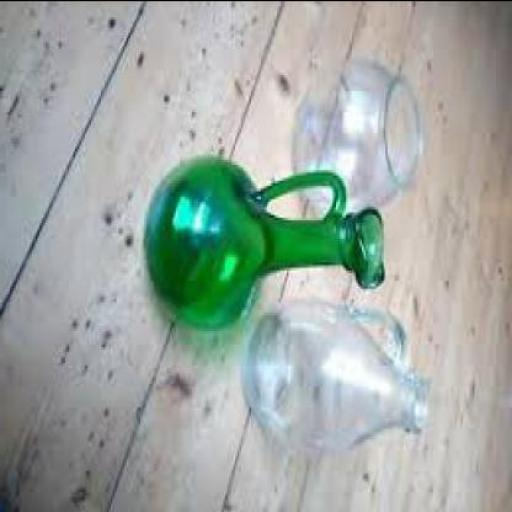glass: (146, 160, 388, 336), (251, 295, 431, 459), (292, 61, 426, 211)
